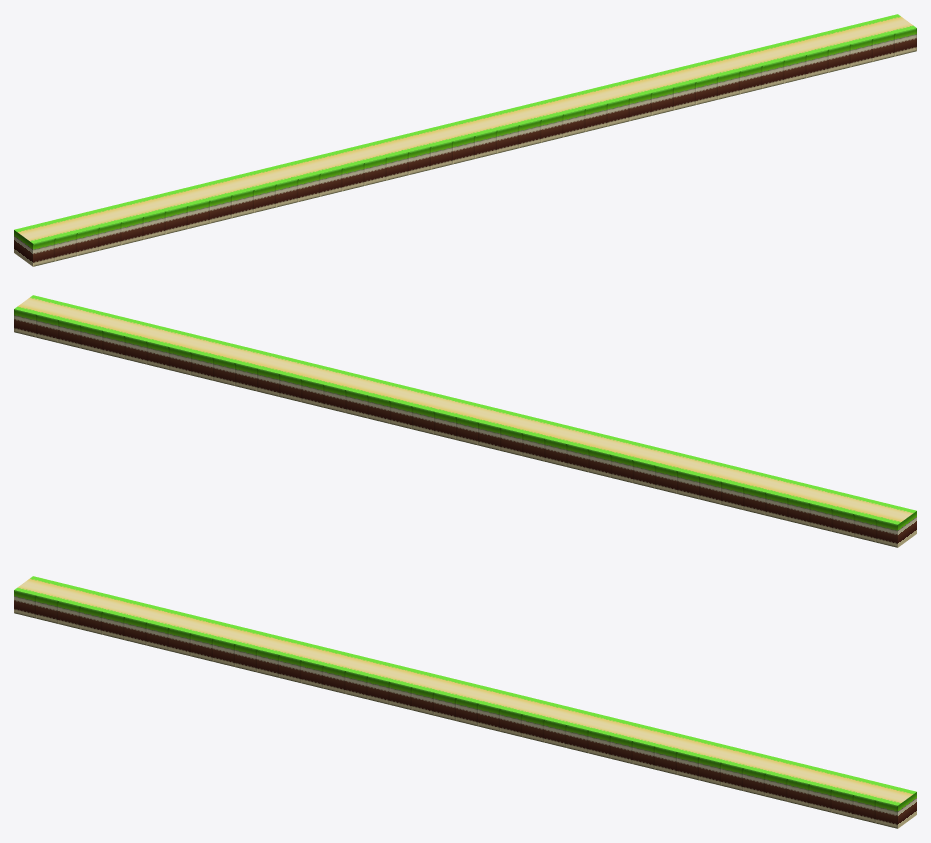
Rendered from kusaStage.fbx.
3 renders of one model, top to bottom at view 1: azimuth 30°, elevation 25°; view 2: azimuth 150°, elevation 25°; view 3: azimuth 330°, elevation 25°, orthographic.
Visible parts, largest first — view 1: pCube15; view 2: pCube15; view 3: pCube15.
Part boxes in pixels (bbox=[...]): pCube15: bbox=[14, 14, 916, 266]; pCube15: bbox=[14, 295, 916, 547]; pCube15: bbox=[14, 576, 916, 828].
Size of the model in its own units: 80 by 2 by 3.
Materials: 2 (2 with a texture image).
